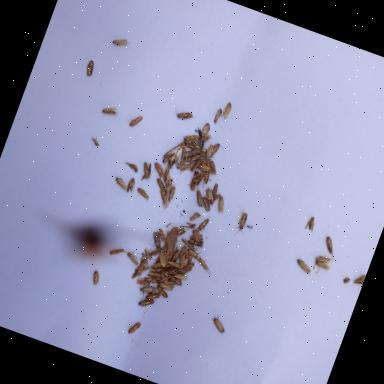pbw: (171, 106, 198, 124), (98, 102, 120, 123), (194, 256, 216, 276), (191, 130, 213, 150), (292, 255, 315, 274), (138, 160, 154, 184), (201, 185, 219, 206), (190, 186, 207, 208), (148, 230, 166, 250), (110, 34, 132, 50), (210, 142, 228, 161), (125, 248, 143, 266), (150, 161, 166, 181), (137, 282, 157, 298), (182, 146, 202, 162), (180, 258, 196, 277), (128, 112, 144, 130), (138, 294, 156, 310), (109, 245, 128, 260), (178, 238, 198, 252), (198, 121, 212, 141), (160, 166, 174, 186), (154, 178, 171, 194), (144, 289, 162, 304), (89, 270, 104, 288), (83, 60, 98, 78), (190, 168, 206, 184), (304, 215, 319, 232), (165, 185, 177, 206), (210, 106, 224, 124), (112, 176, 130, 190), (128, 318, 142, 336), (314, 252, 332, 266), (134, 187, 152, 201), (163, 176, 175, 196), (186, 236, 204, 249), (184, 249, 202, 262), (150, 244, 164, 260), (206, 160, 220, 176), (176, 160, 192, 174), (156, 251, 170, 267), (153, 285, 170, 298), (167, 273, 184, 286), (215, 196, 228, 213), (158, 280, 176, 292), (314, 260, 332, 272), (189, 228, 204, 242), (155, 228, 169, 243), (201, 196, 214, 212), (137, 257, 150, 273), (221, 102, 233, 119), (200, 171, 211, 189), (141, 246, 155, 260), (160, 192, 172, 208), (181, 220, 197, 232), (170, 248, 182, 264), (143, 274, 159, 286), (198, 216, 210, 232), (124, 161, 140, 173), (183, 132, 199, 144), (126, 177, 137, 194), (189, 210, 202, 224), (164, 264, 178, 277), (188, 152, 201, 166), (210, 182, 221, 198), (138, 263, 150, 277), (354, 272, 366, 286), (131, 267, 143, 281), (150, 260, 164, 272), (136, 278, 152, 288), (172, 272, 188, 282), (167, 260, 183, 270), (158, 272, 171, 284), (187, 179, 199, 192), (199, 152, 213, 163), (178, 245, 188, 260), (205, 143, 215, 158), (191, 158, 201, 173), (157, 189, 168, 202), (148, 270, 161, 280), (166, 158, 176, 171), (150, 265, 163, 275), (176, 227, 187, 238), (90, 136, 101, 147), (162, 154, 172, 166), (195, 144, 208, 153), (212, 192, 222, 203), (198, 164, 210, 172), (184, 142, 196, 150), (182, 156, 192, 165), (199, 160, 209, 167), (167, 280, 175, 286), (208, 178, 213, 182)
